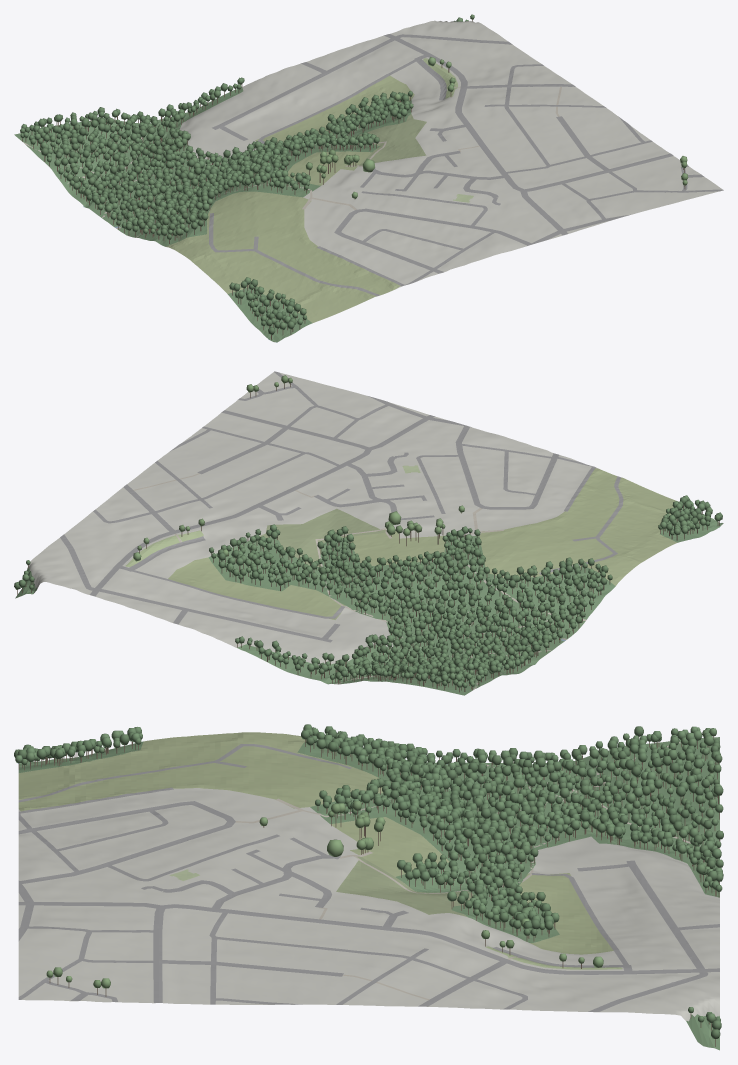
3 views of the same model, one above another, from view 1: azimuth 30°, elevation 25°; view 2: azimuth 150°, elevation 25°; view 3: azimuth 270°, elevation 25° (orthographic). The views are drawn at different scales.
Parts seen in each view (by area): view 1: t15_05_terrain, way/24565760@t15_05_canopy, way/24565776@t15_05, t15_05_roads_minor, way/24565760@t15_05, way/809415187@t15_05, way/1332408451@t15_05, t15_05_trees_mapped, way/810057528@t15_05, t15_05_roads_path; view 2: t15_05_terrain, way/24565760@t15_05_canopy, way/24565760@t15_05, t15_05_roads_minor, way/24565776@t15_05, way/809415187@t15_05, way/1332408451@t15_05, way/810057528@t15_05, t15_05_trees_mapped, t15_05_roads_path; view 3: t15_05_terrain, way/24565760@t15_05_canopy, t15_05_roads_minor, way/24565776@t15_05, way/24565760@t15_05, way/809415187@t15_05, way/810057528@t15_05, way/1332408451@t15_05, t15_05_trees_mapped, t15_05_roads_path, way/880362764@t15_05.
Part boxes in pixels (x1=…): t15_05_terrain: x1=18, y1=20, x2=723, y2=342; way/24565760@t15_05_canopy: x1=20, y1=77, x2=413, y2=339; way/24565776@t15_05: x1=166, y1=191, x2=400, y2=322; t15_05_roads_minor: x1=209, y1=34, x2=723, y2=296; way/24565760@t15_05: x1=14, y1=87, x2=411, y2=342; way/809415187@t15_05: x1=255, y1=75, x2=414, y2=145; way/1332408451@t15_05: x1=356, y1=114, x2=426, y2=165; t15_05_trees_mapped: x1=305, y1=57, x2=688, y2=199; way/810057528@t15_05: x1=288, y1=151, x2=371, y2=185; t15_05_roads_path: x1=23, y1=86, x2=561, y2=237; t15_05_terrain: x1=25, y1=372, x2=723, y2=694; way/24565760@t15_05_canopy: x1=209, y1=495, x2=722, y2=692; way/24565760@t15_05: x1=208, y1=505, x2=723, y2=695; t15_05_roads_minor: x1=60, y1=371, x2=623, y2=642; way/24565776@t15_05: x1=479, y1=468, x2=678, y2=585; way/809415187@t15_05: x1=168, y1=557, x2=345, y2=619; way/1332408451@t15_05: x1=259, y1=508, x2=385, y2=566; way/810057528@t15_05: x1=350, y1=531, x2=444, y2=565; t15_05_trees_mapped: x1=133, y1=375, x2=464, y2=562; t15_05_roads_path: x1=133, y1=473, x2=586, y2=689; t15_05_terrain: x1=18, y1=788, x2=719, y2=1050; way/24565760@t15_05_canopy: x1=14, y1=724, x2=723, y2=941; t15_05_roads_minor: x1=18, y1=744, x2=719, y2=1011; way/24565776@t15_05: x1=18, y1=732, x2=382, y2=811; way/24565760@t15_05: x1=18, y1=737, x2=719, y2=942; way/809415187@t15_05: x1=519, y1=873, x2=613, y2=954; way/810057528@t15_05: x1=330, y1=817, x2=449, y2=876; way/1332408451@t15_05: x1=336, y1=856, x2=473, y2=917; t15_05_trees_mapped: x1=46, y1=801, x2=603, y2=996; t15_05_roads_path: x1=235, y1=742, x2=719, y2=1000; way/880362764@t15_05: x1=686, y1=1014, x2=719, y2=1050.
Bounding box in the file's own units: 505 × 62.65 × 506.
